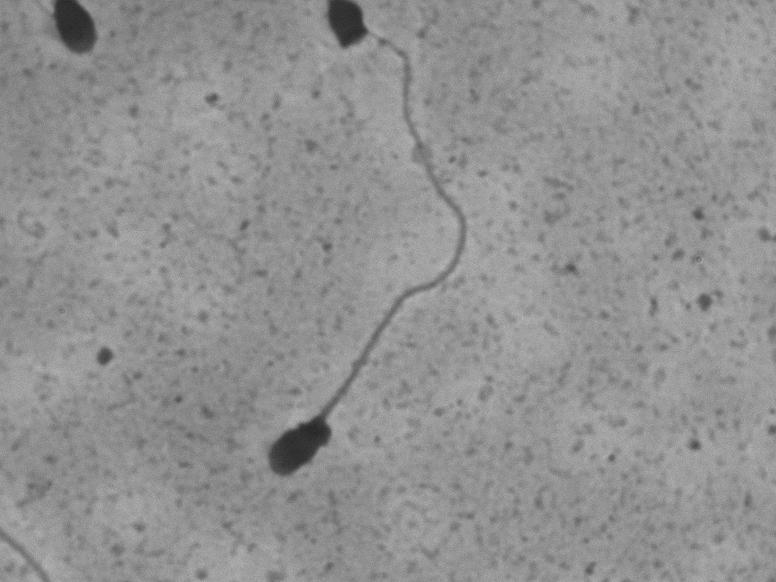Abnormal: (247, 21, 487, 497)
